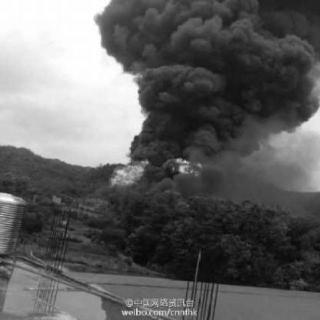Fire: (111, 154, 204, 190)
